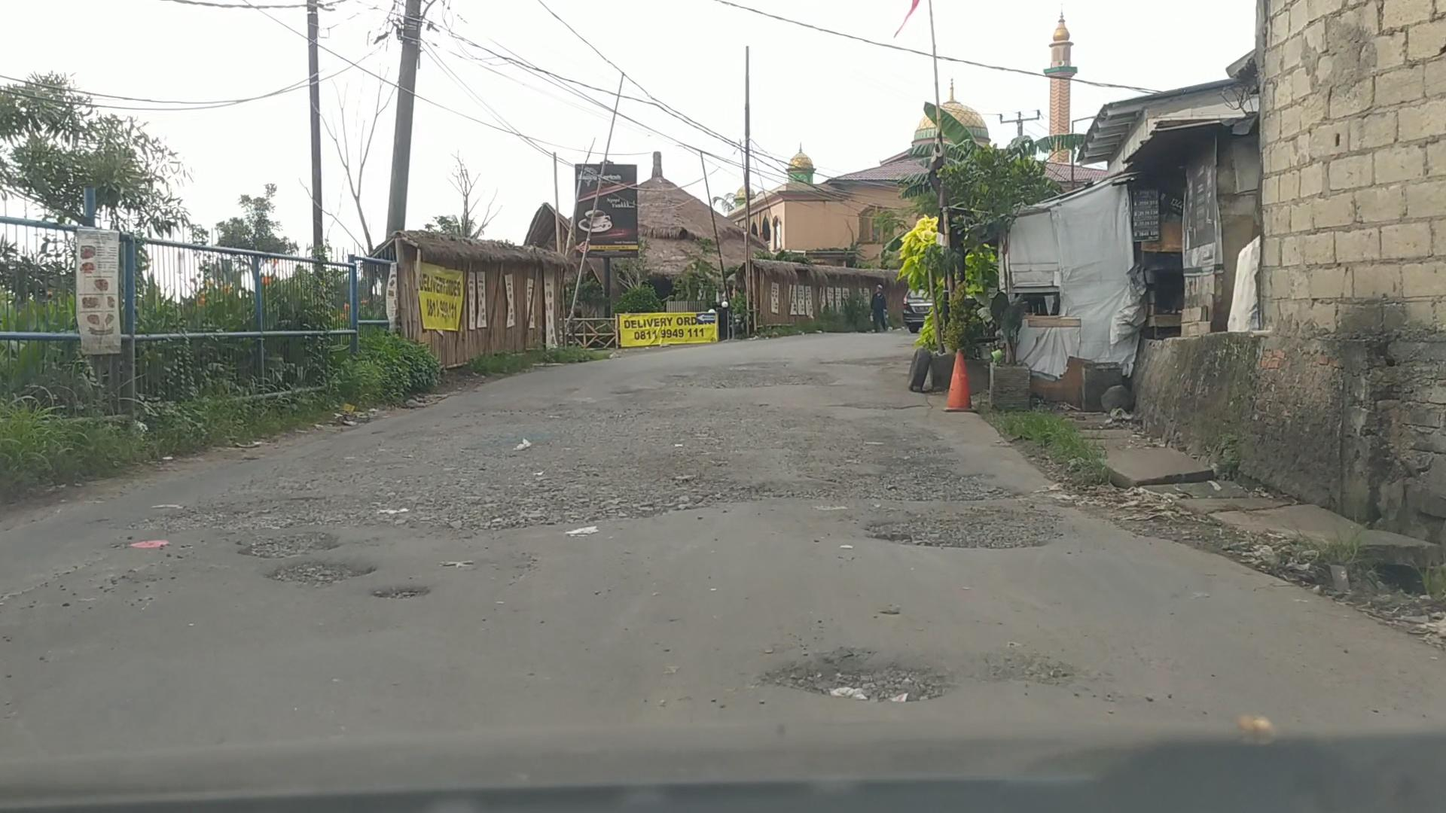pothole: (768, 646, 952, 707), (863, 503, 1065, 552), (270, 560, 376, 584), (245, 527, 340, 552), (376, 583, 424, 600)
